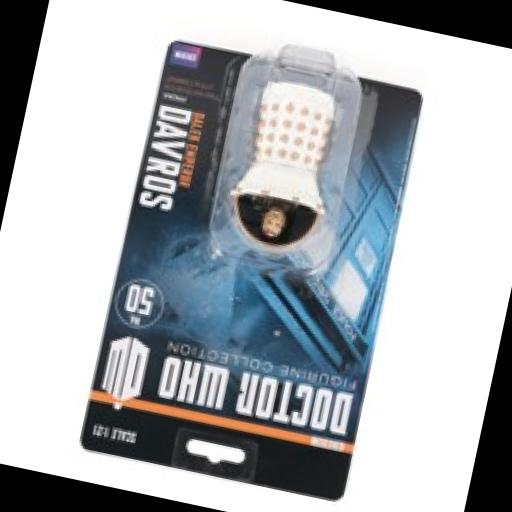dalek: (235, 66, 346, 208)
